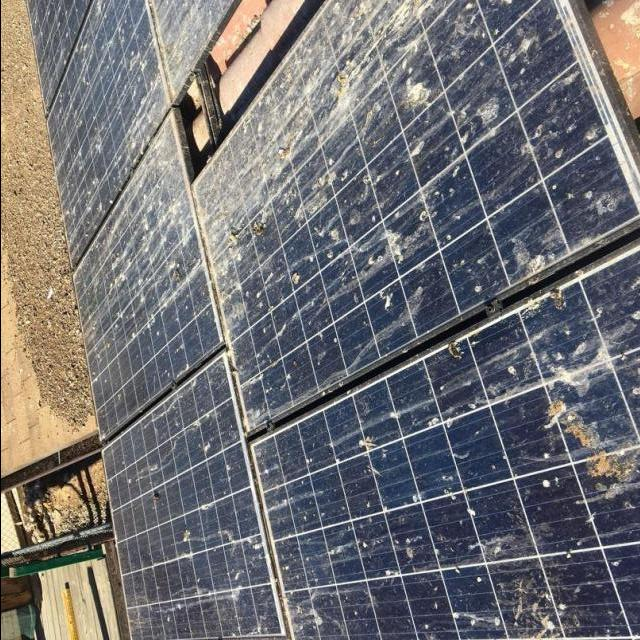soiled: (28, 3, 640, 632)
